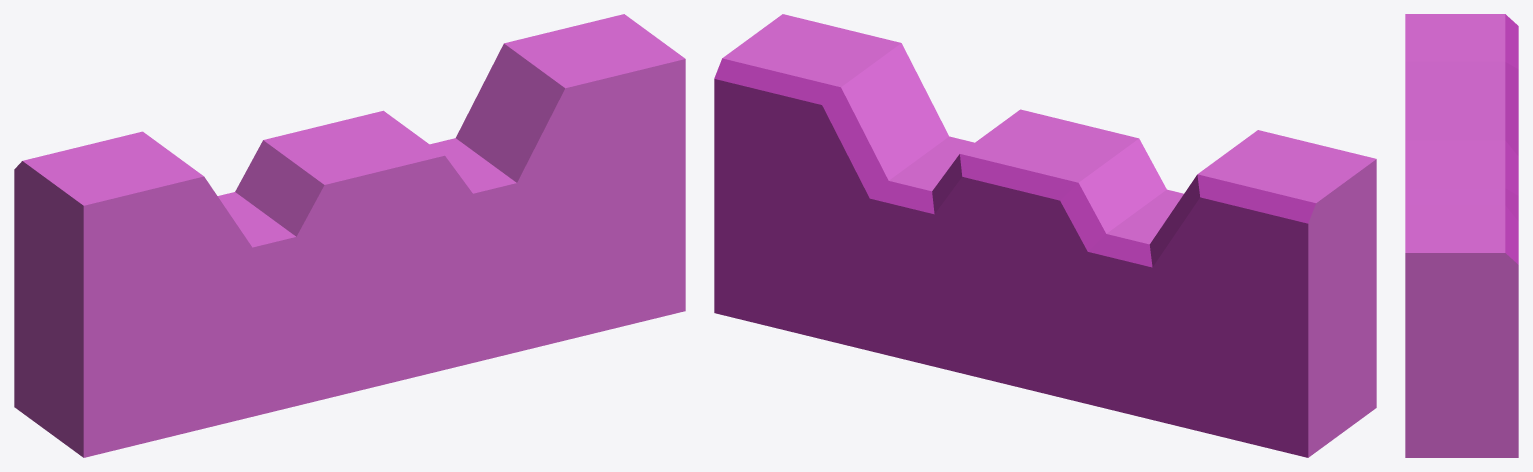
Rendered from lowWall.fbx.
The picture shows the model from 3 angles, left to right: view 1: azimuth 30°, elevation 25°; view 2: azimuth 150°, elevation 25°; view 3: azimuth 270°, elevation 25°; orthographic projection. The views are drawn at different scales.
Visible parts, largest first — view 1: lowWall; view 2: lowWall; view 3: lowWall.
Part boxes in pixels (x1,y1,x2,y2): lowWall: (14, 14, 685, 457); lowWall: (714, 14, 1376, 457); lowWall: (1405, 14, 1518, 457).
Bounding box in the file's own units: 500 × 200 × 100.
